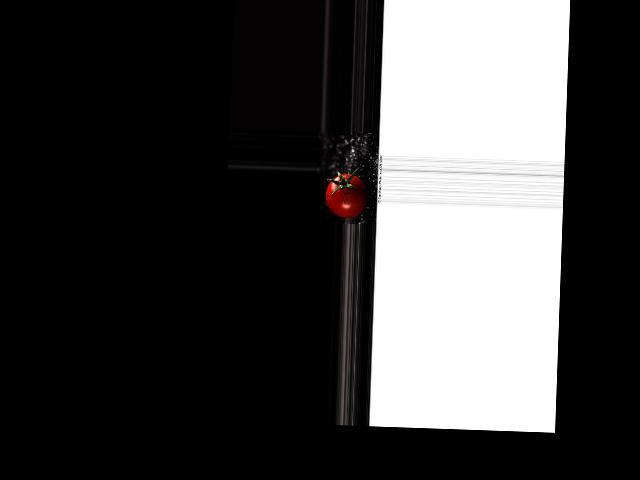tomato: (325, 173, 369, 218)
